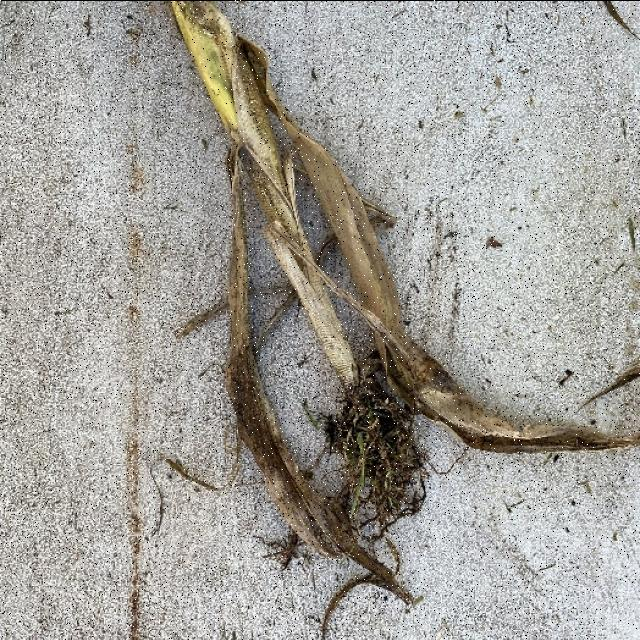organik: (156, 22, 536, 580)
